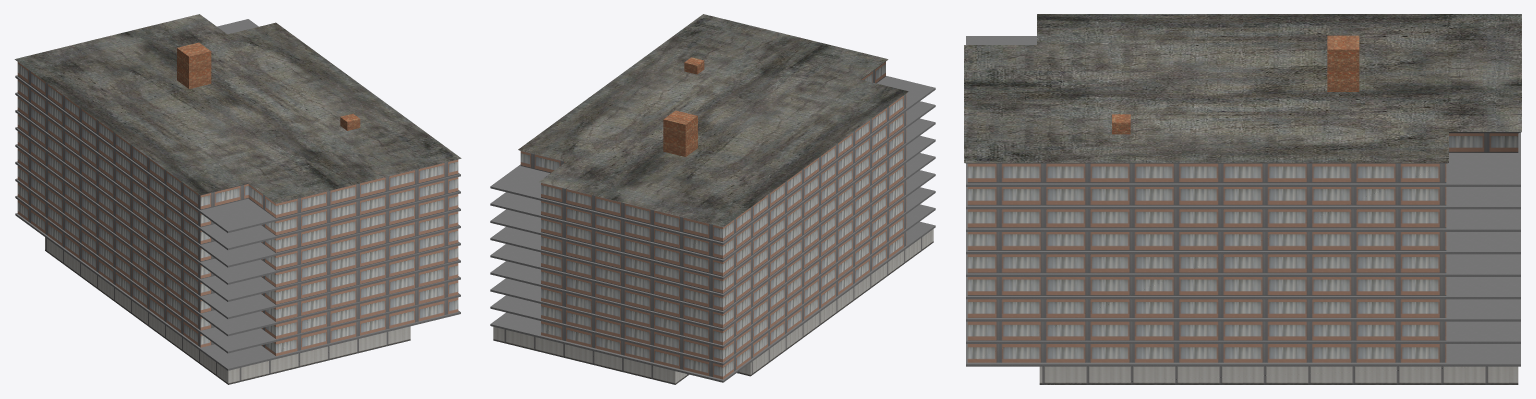
File: LOD01_Building_10stores_House.obj
3 renders of one model, left to right at view 1: azimuth 30°, elevation 25°; view 2: azimuth 150°, elevation 25°; view 3: azimuth 270°, elevation 25°, orthographic. The views are drawn at different scales.
Parts seen in each view (by area): view 1: LOD01_Building_10stores_House; view 2: LOD01_Building_10stores_House; view 3: LOD01_Building_10stores_House.
Boxes of the visible parts, <box> form: LOD01_Building_10stores_House: <box>14,14,461,384</box>; LOD01_Building_10stores_House: <box>490,14,935,384</box>; LOD01_Building_10stores_House: <box>964,14,1521,384</box>.
Size of the model in its own units: 15.91 by 13.22 by 25.16.
